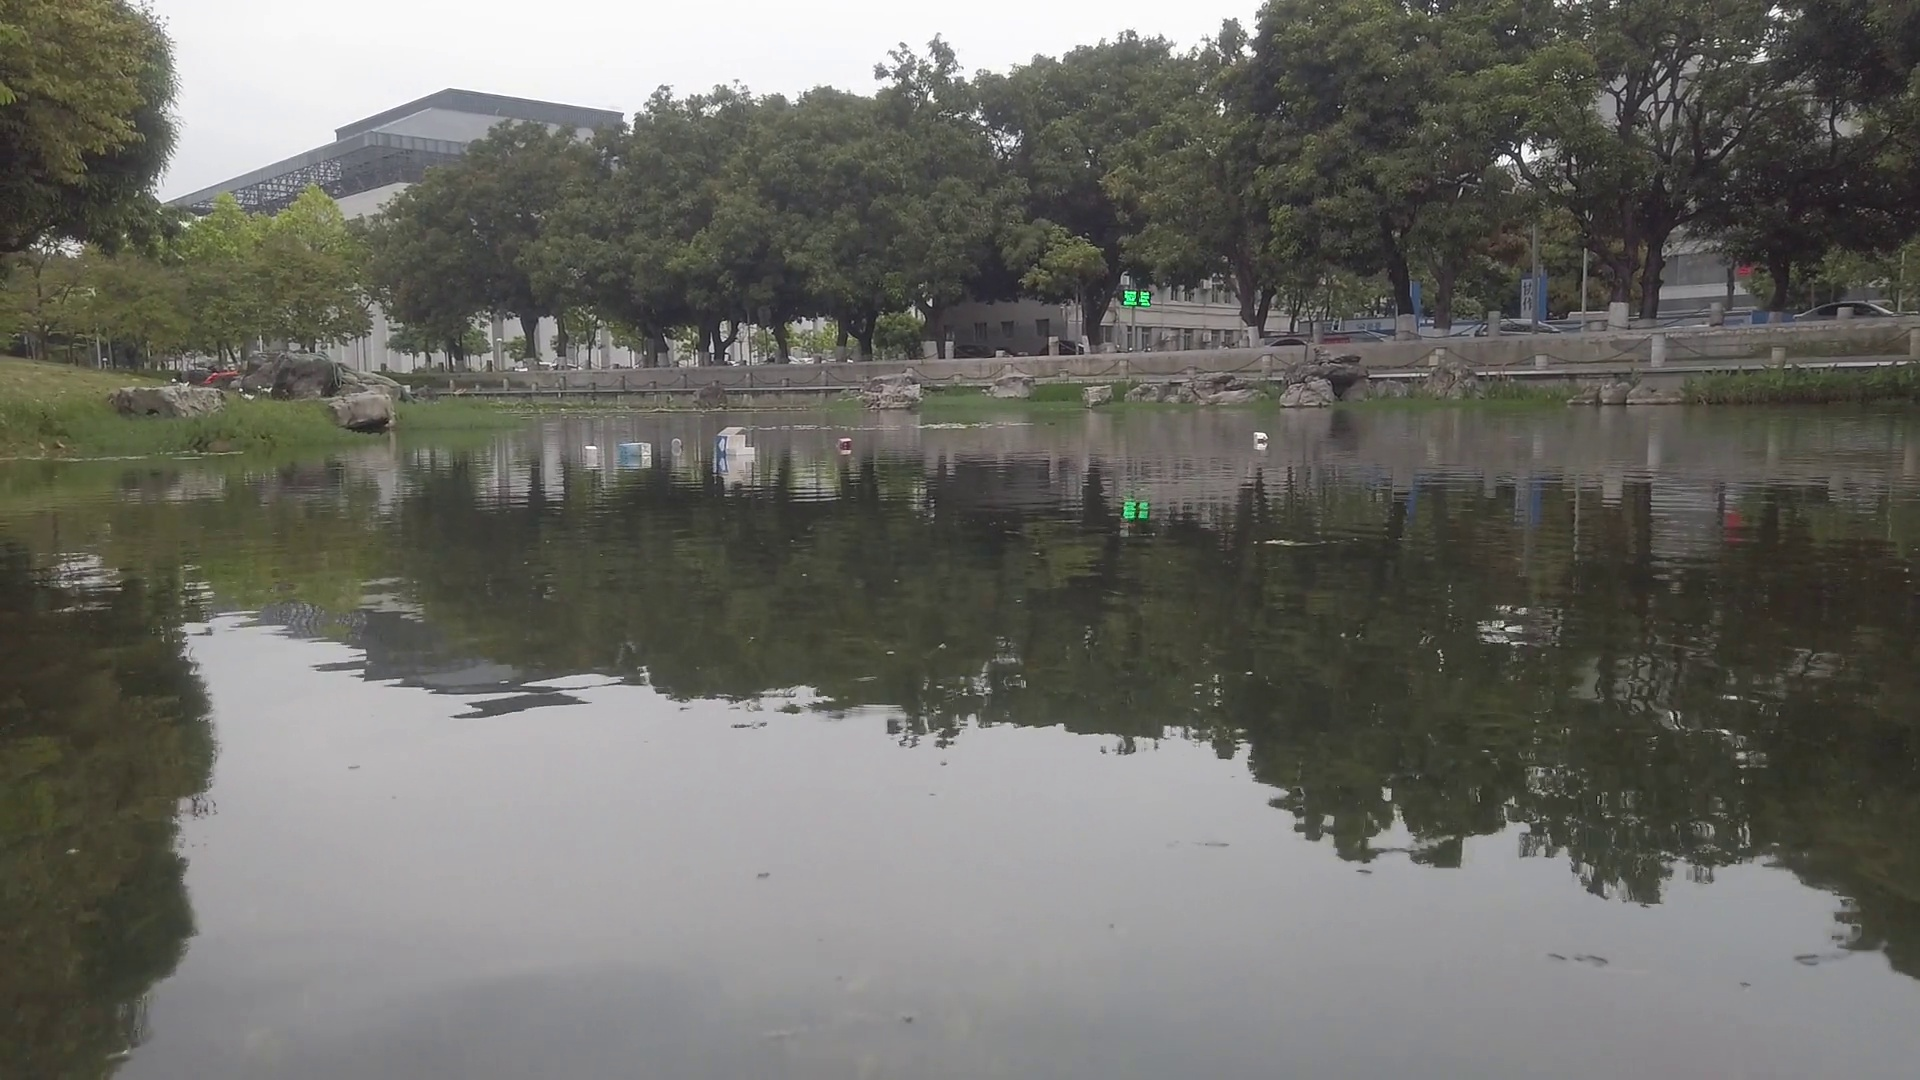bottle: (837, 436, 851, 456), (673, 439, 687, 448)
carton: (717, 425, 750, 456), (620, 440, 651, 458), (584, 443, 603, 463), (1254, 429, 1270, 444)
